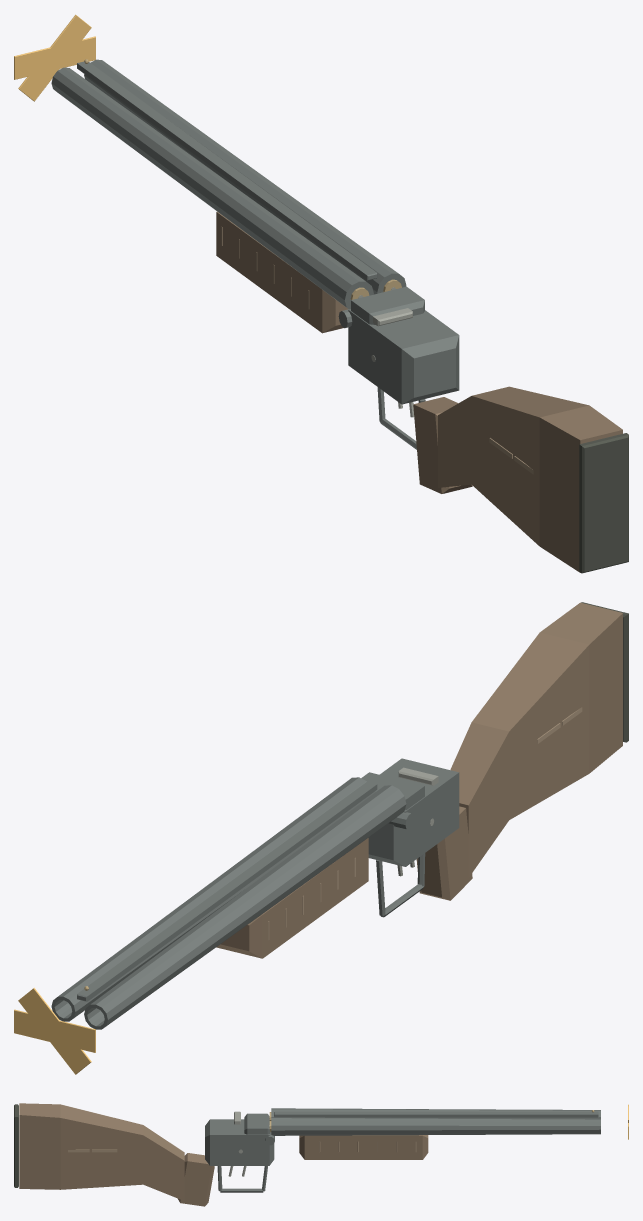
File: Shotgun.fbx
3 views of the same model, one above another, from view 1: azimuth 30°, elevation 25°; view 2: azimuth 150°, elevation 25°; view 3: azimuth 270°, elevation 25° (orthographic). The views are drawn at different scales.
Parts seen in each view (by area): view 1: Hinge__Steel, Body__Wood, Body__Steel, Body__Rubber, Hinge__Wood, MuzzleFlash__Flash; view 2: Body__Wood, Hinge__Steel, Body__Steel, Hinge__Wood, MuzzleFlash__Flash, Body__Rubber; view 3: Body__Wood, Hinge__Steel, Body__Steel, Hinge__Wood, Body__Rubber, Body__WornSteel, Body__WoodWear.
Part boxes in pixels (x1,y1,x2,y2): Hinge__Steel: [51, 59, 406, 309]; Body__Wood: [413, 386, 622, 572]; Body__Steel: [338, 286, 459, 449]; Body__Rubber: [579, 433, 628, 573]; Hinge__Wood: [216, 211, 348, 333]; MuzzleFlash__Flash: [14, 14, 95, 101]; Body__Wood: [416, 602, 622, 900]; Hinge__Steel: [51, 777, 406, 1029]; Body__Steel: [361, 758, 459, 917]; Hinge__Wood: [216, 838, 368, 958]; MuzzleFlash__Flash: [14, 987, 95, 1074]; Body__Rubber: [581, 602, 628, 742]; Body__Wood: [19, 1103, 214, 1206]; Hinge__Steel: [271, 1108, 600, 1135]; Body__Steel: [205, 1113, 274, 1192]; Hinge__Wood: [299, 1135, 428, 1159]; Body__Rubber: [14, 1104, 18, 1187]; Body__WornSteel: [228, 1111, 246, 1176]; Body__WoodWear: [68, 1149, 117, 1152].
Bounding box in the file's own units: 0.095 × 0.2036 × 1.12.
